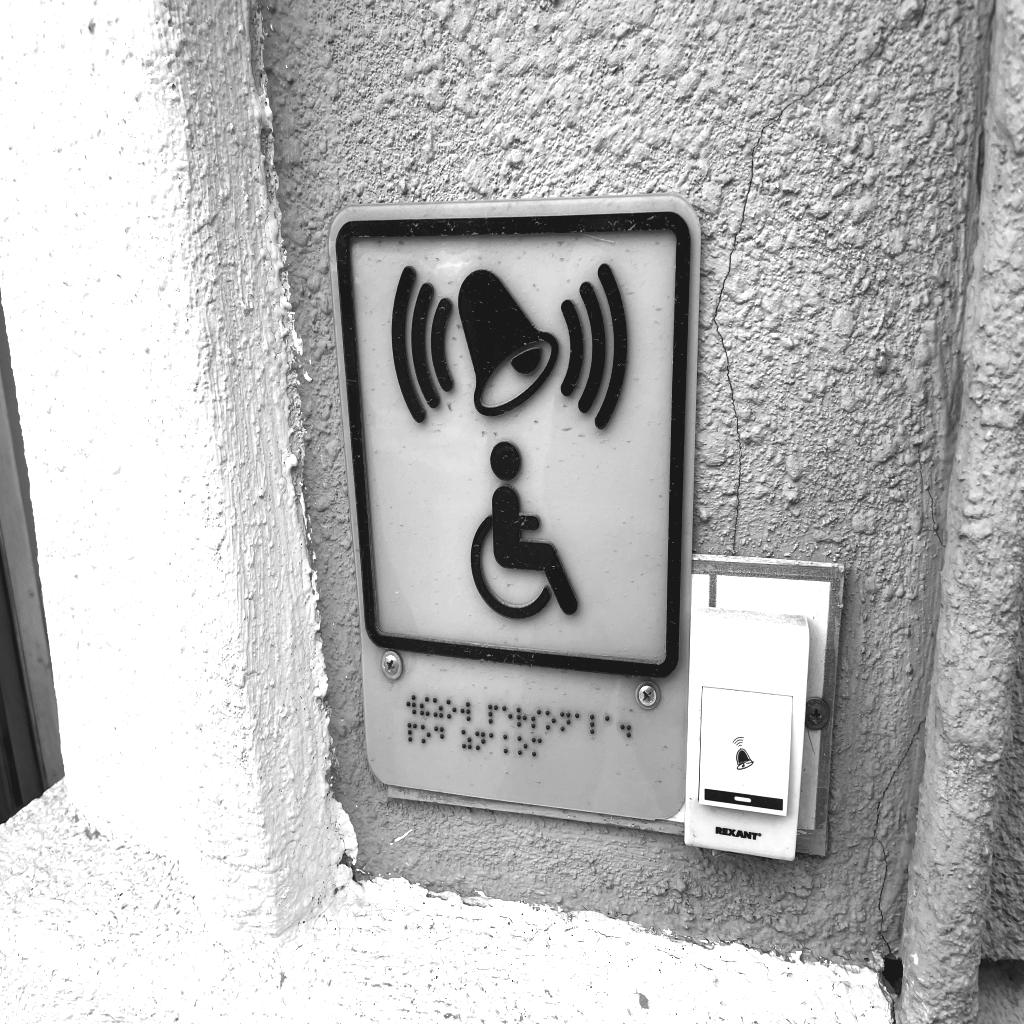_n: (560, 711, 571, 732), (475, 731, 485, 751)
a: (604, 715, 615, 736), (575, 713, 585, 733), (489, 732, 499, 752)
d: (434, 726, 444, 746)
e: (502, 706, 513, 726)
ii: (420, 697, 429, 717)
k: (503, 734, 513, 754)
l: (590, 714, 601, 735)
m: (531, 737, 542, 757)
o: (446, 699, 457, 719), (545, 710, 556, 730), (517, 736, 528, 756), (421, 724, 431, 744)
p: (488, 704, 498, 724), (407, 722, 417, 742)
r: (516, 707, 527, 727)
s: (531, 709, 541, 729)
tochka: (620, 715, 631, 738)
v: (461, 702, 471, 722), (407, 695, 416, 714)
z: (461, 730, 472, 750), (433, 698, 443, 718)
